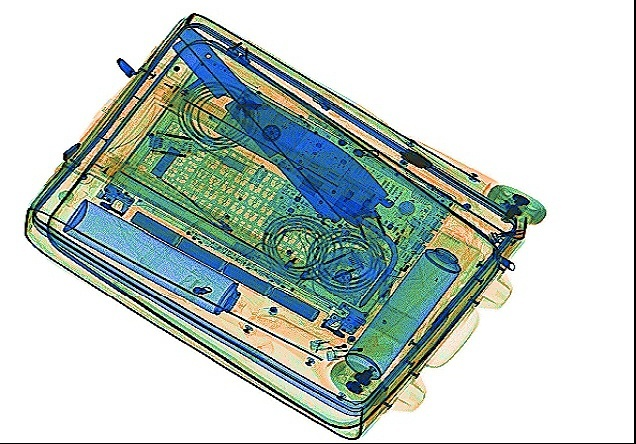lighter: (306, 327, 378, 352), (325, 340, 393, 362)
pressure: (60, 197, 267, 331), (343, 222, 473, 379)
